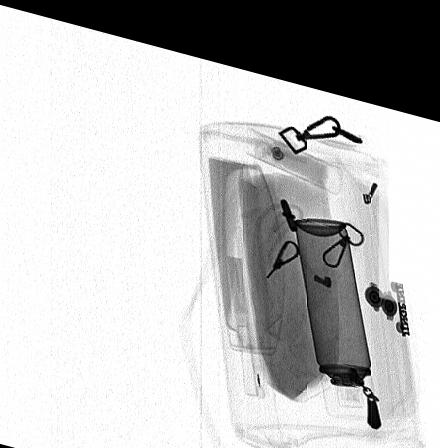Sprayer: (295, 201, 379, 401)
